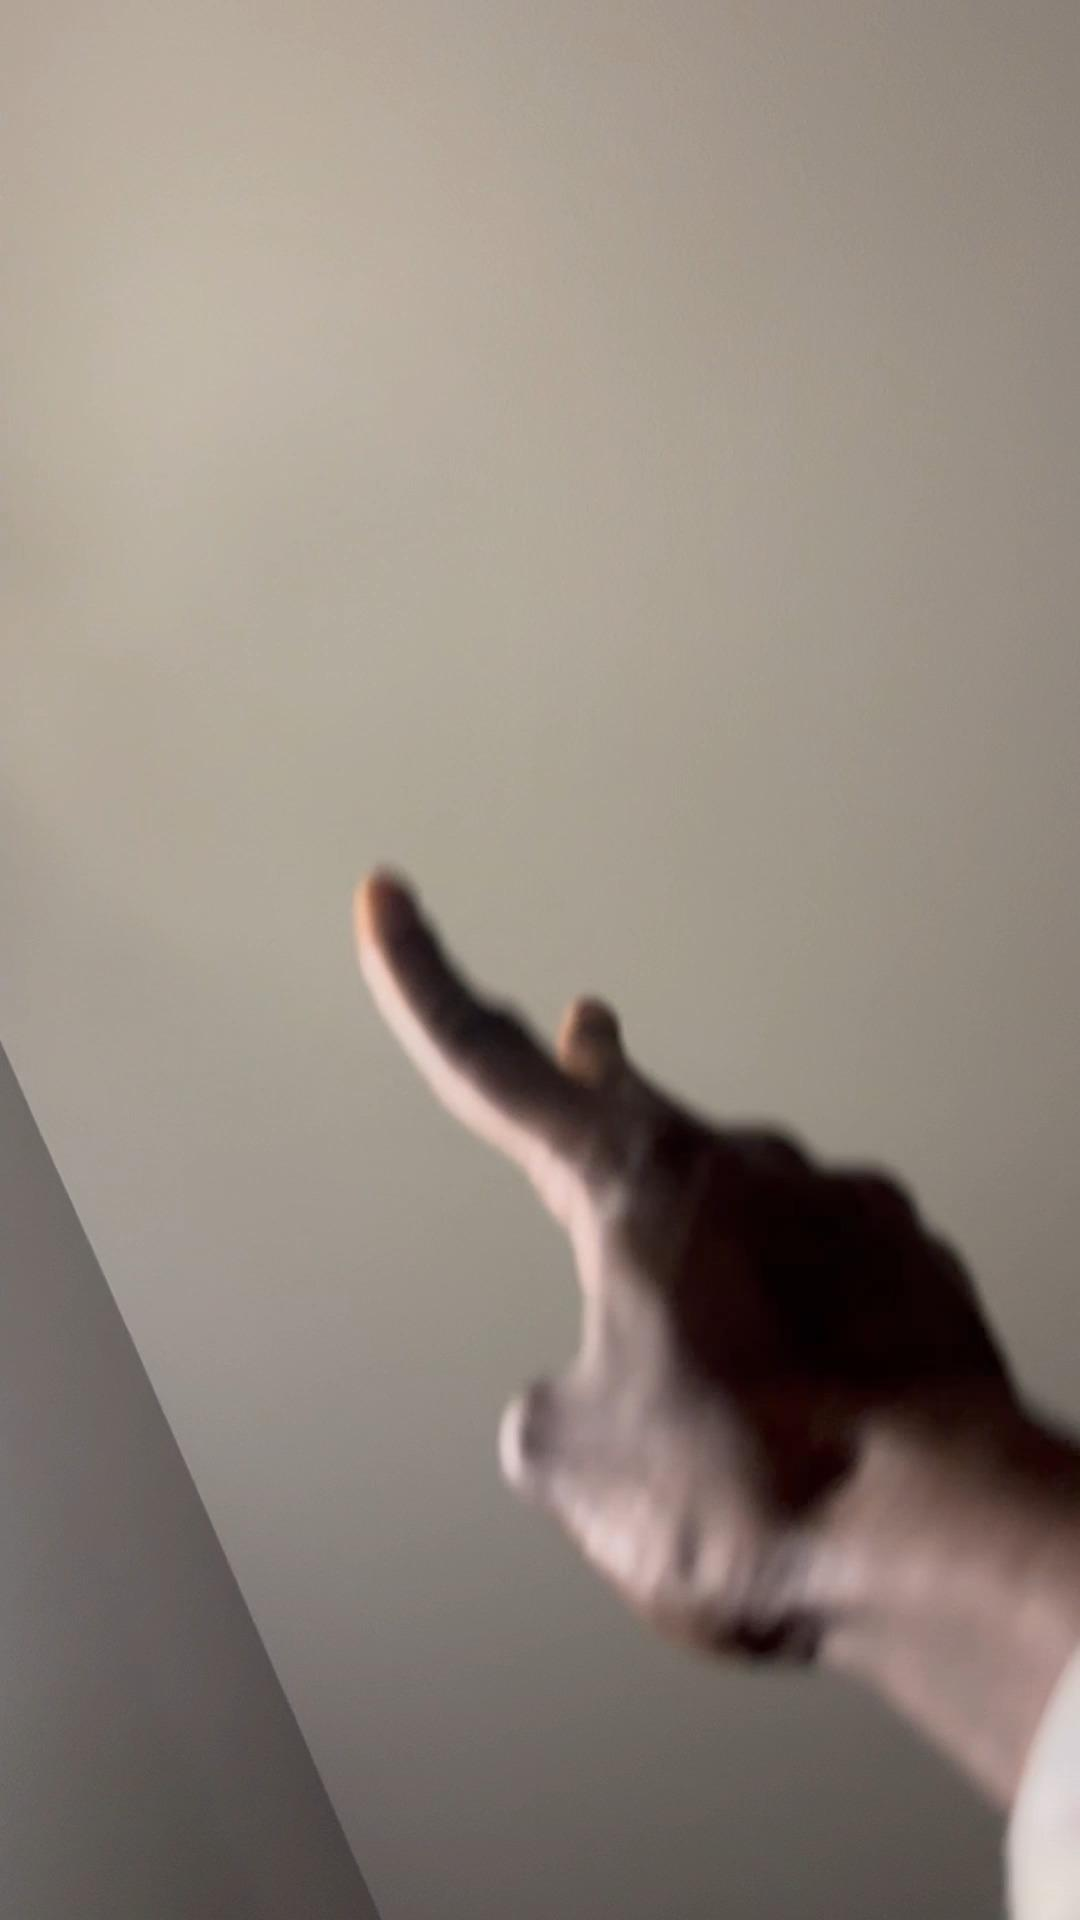Scissors: (356, 864, 1017, 1709)
